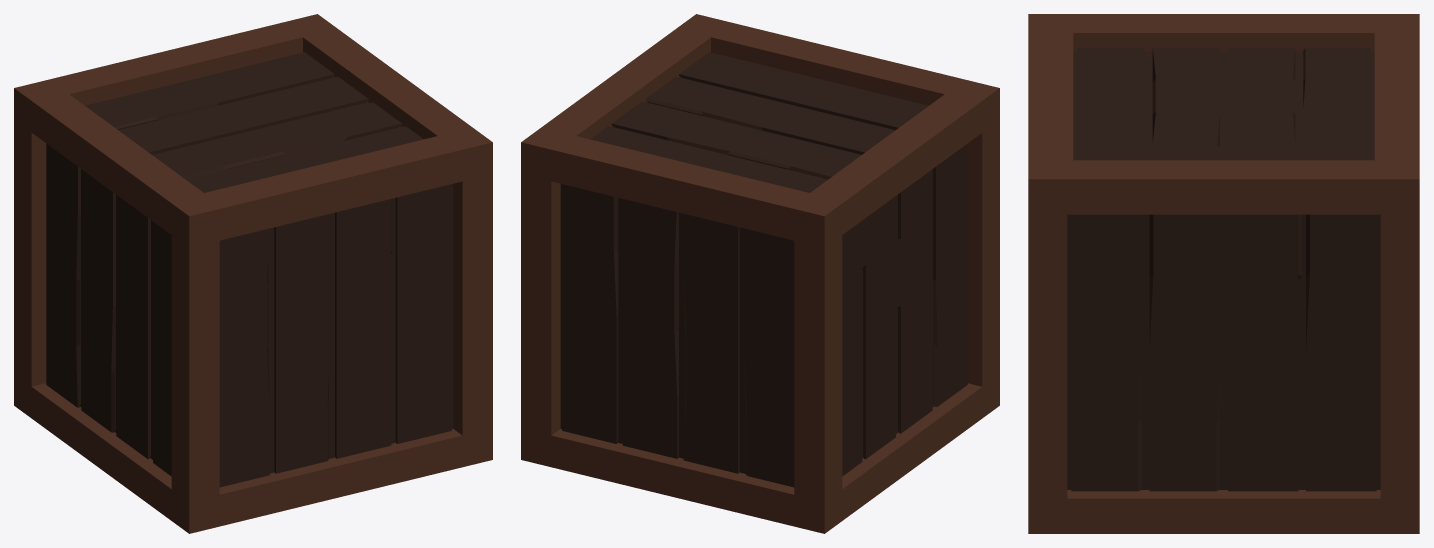
Rendered from Create.glb.
The picture shows the model from 3 angles, left to right: view 1: azimuth 30°, elevation 25°; view 2: azimuth 150°, elevation 25°; view 3: azimuth 270°, elevation 25°; orthographic projection. The views are drawn at different scales.
Parts seen in each view (by area): view 1: Cube; view 2: Cube; view 3: Cube.
Boxes of the visible parts, box(x1,y1,x2,y2) form: Cube: box(14, 14, 492, 533); Cube: box(521, 14, 999, 533); Cube: box(1028, 14, 1419, 533).
Bounding box in the file's own units: 2 × 2 × 2.
